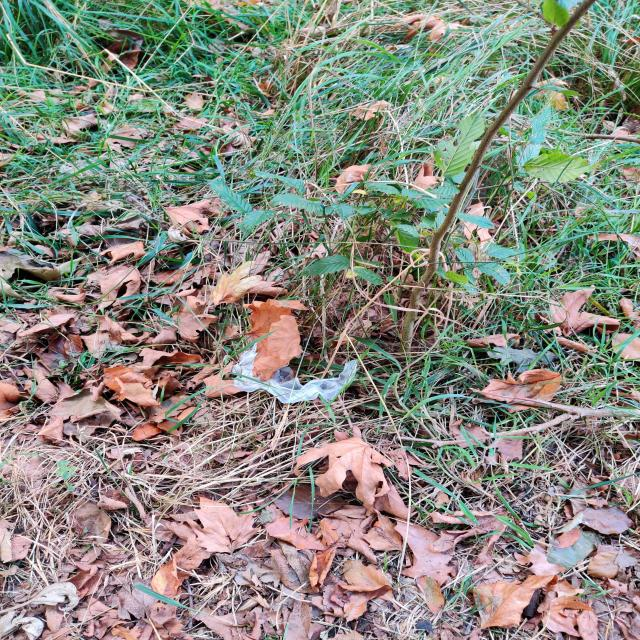litter: (232, 343, 360, 404)
